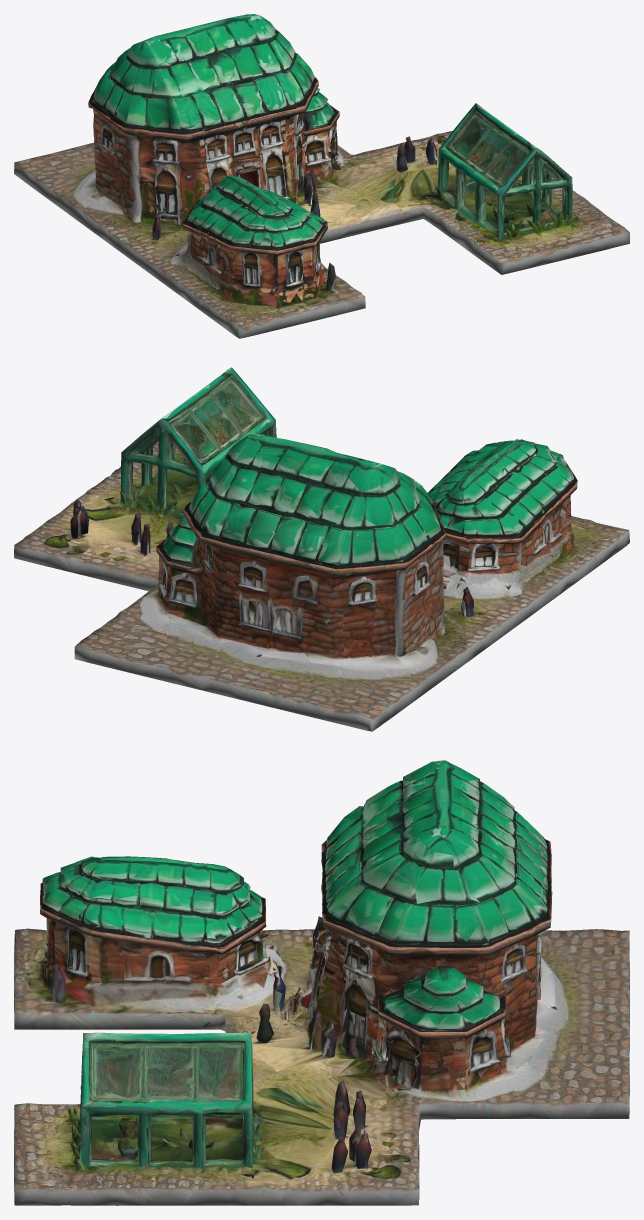
The model's file is laboratorio.glb.
3 views of the same model, one above another, from view 1: azimuth 30°, elevation 25°; view 2: azimuth 150°, elevation 25°; view 3: azimuth 270°, elevation 25° (orthographic). The views are drawn at different scales.
Bounding box in the file's own units: 1.9 × 0.7929 × 1.9.
Materials: 1 (1 with a texture image).
